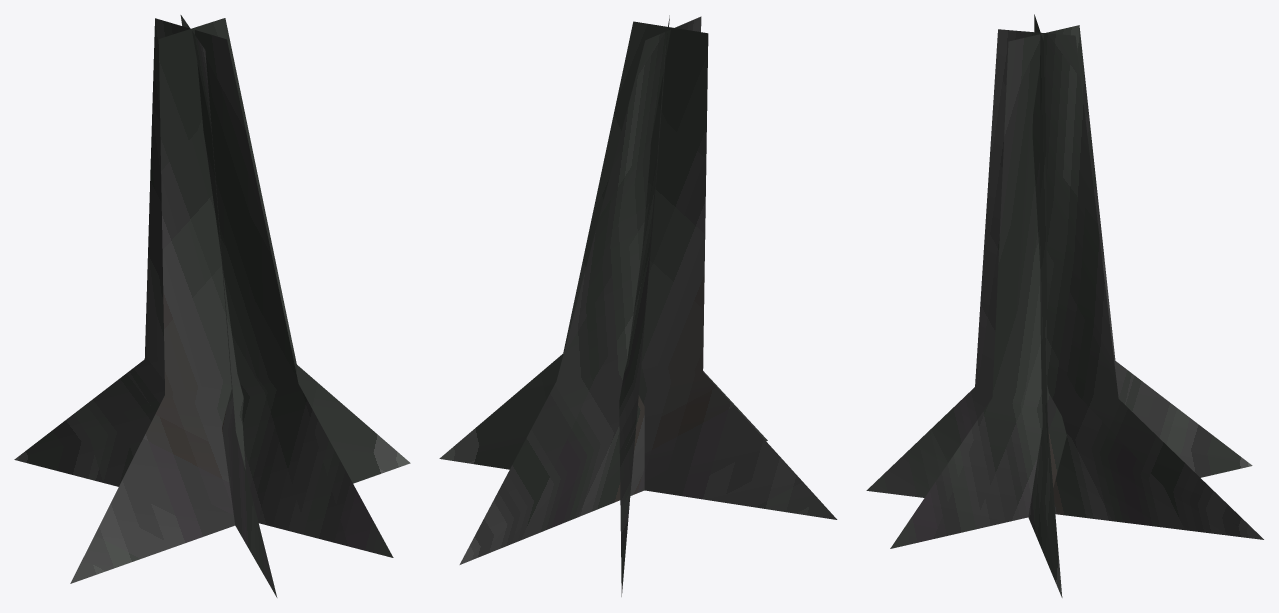
File: INST_HTOWN_TREEC_LOD3.fbx
3 views of the same model, side by side, from view 1: azimuth 30°, elevation 25°; view 2: azimuth 150°, elevation 25°; view 3: azimuth 270°, elevation 25° (orthographic). The views are drawn at different scales.
Parts seen in each view (by area): view 1: INST_HTOWN_TREEC_LOD3; view 2: INST_HTOWN_TREEC_LOD3; view 3: INST_HTOWN_TREEC_LOD3.
Part boxes in pixels (x1=…): INST_HTOWN_TREEC_LOD3: x1=14, y1=15, x2=410, y2=597; INST_HTOWN_TREEC_LOD3: x1=439, y1=15, x2=837, y2=596; INST_HTOWN_TREEC_LOD3: x1=866, y1=14, x2=1263, y2=597.
Bounding box in the file's own units: 38242 × 48202 × 37509.
1 material, 1 textured.
